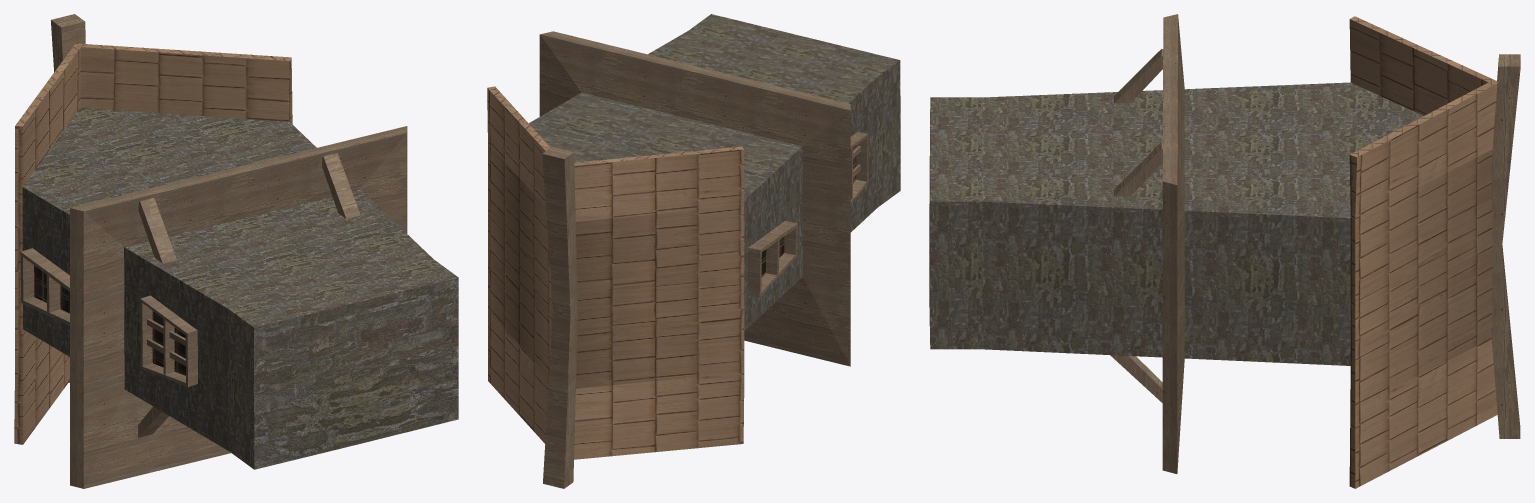
File: OU_AR_House_03_D_01.fbx
3 views of the same model, side by side, from view 1: azimuth 30°, elevation 25°; view 2: azimuth 150°, elevation 25°; view 3: azimuth 270°, elevation 25° (orthographic). The views are drawn at different scales.
Visible parts, largest first — view 1: OU_AR_House_03_D__1_; view 2: OU_AR_House_03_D__1_; view 3: OU_AR_House_03_D__1_.
Part boxes in pixels (bbox=[...]): OU_AR_House_03_D__1_: bbox=[14, 14, 458, 488]; OU_AR_House_03_D__1_: bbox=[487, 14, 900, 488]; OU_AR_House_03_D__1_: bbox=[929, 14, 1520, 488].
Bounding box in the file's own units: 595 × 603 × 869.
4 materials, 4 textured.
